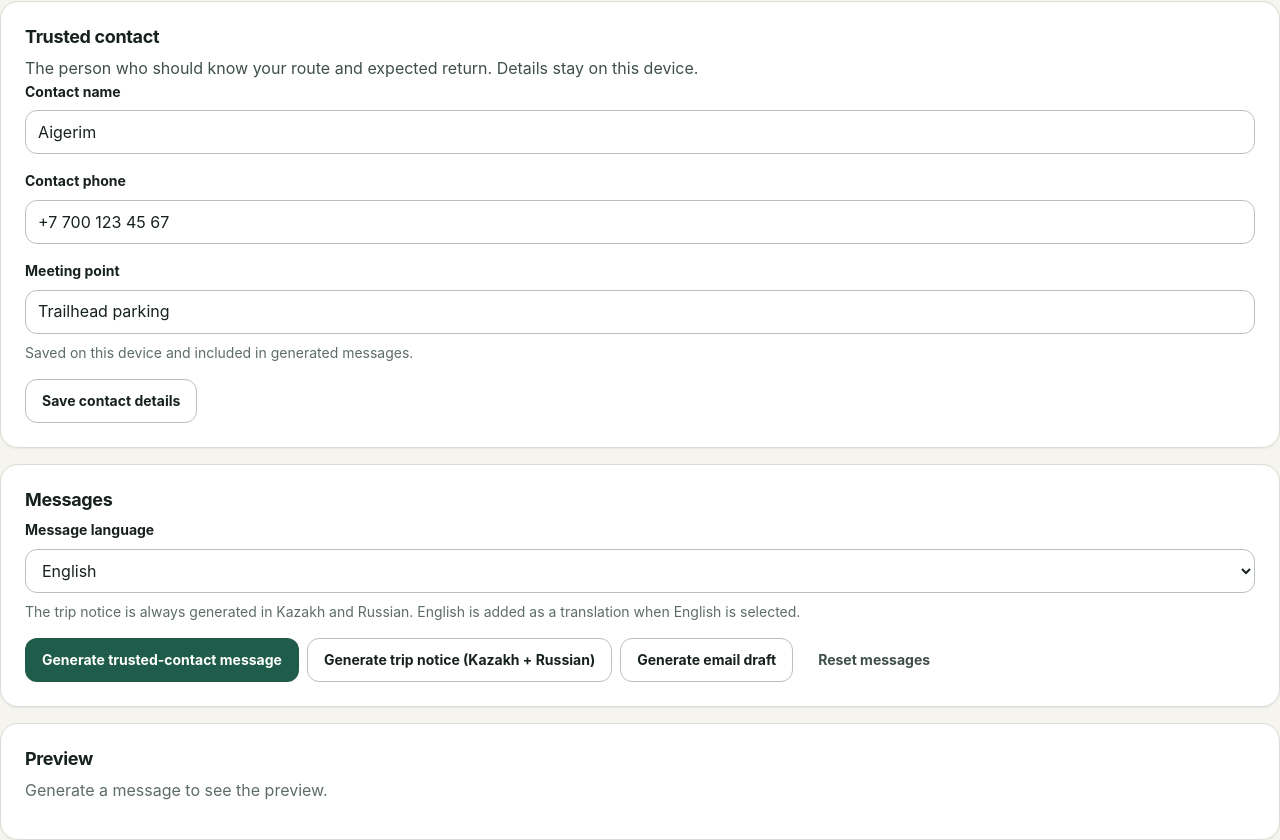
SharePage › shows manual copy guidance when automatic copying fails
The width and height of the screenshot is (1280, 840).
(page scrolled)
What coordinates should you click on to do the following:
click the button "Generate trusted-contact message"
I would click on:
 (162, 660)
Its box is [25,638,299,682].
(page scrolled)
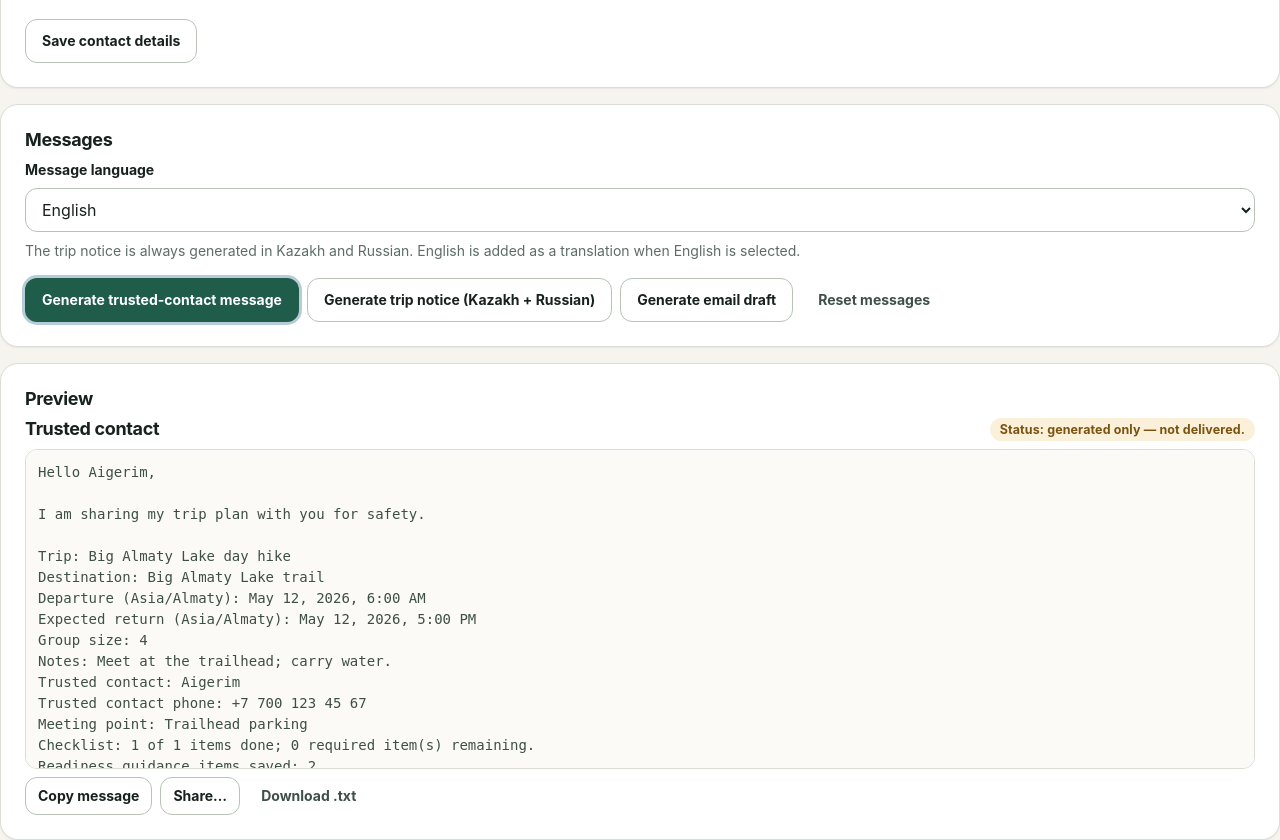
What coordinates should you click on to do the following:
click the button with aria-label "Copy message — English"
I would click on:
 (89, 796)
Its box is [25,777,152,815].
(page scrolled)
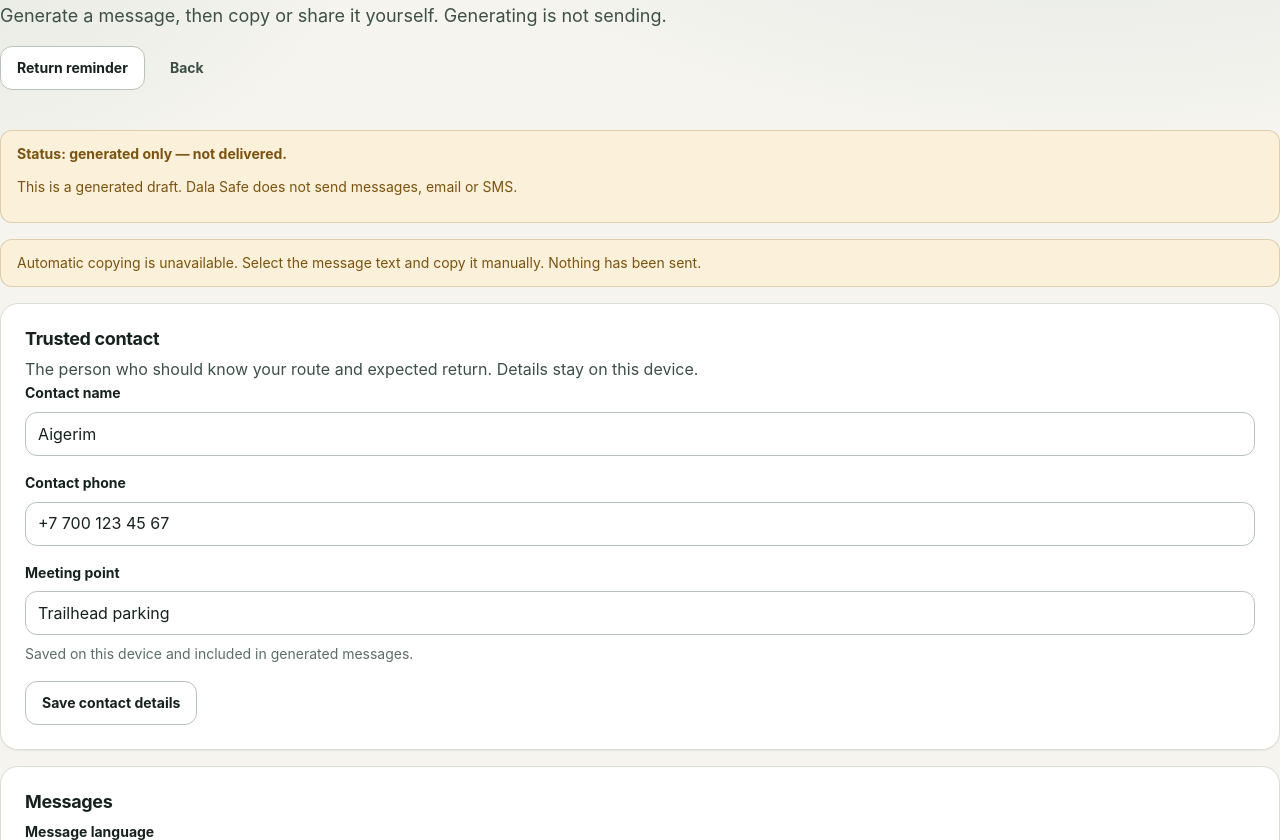
Now the text "Automatic copying is unavailable. Select the message text and copy it manually. Nothing has been sent." is shown, box [17,254,701,271]
